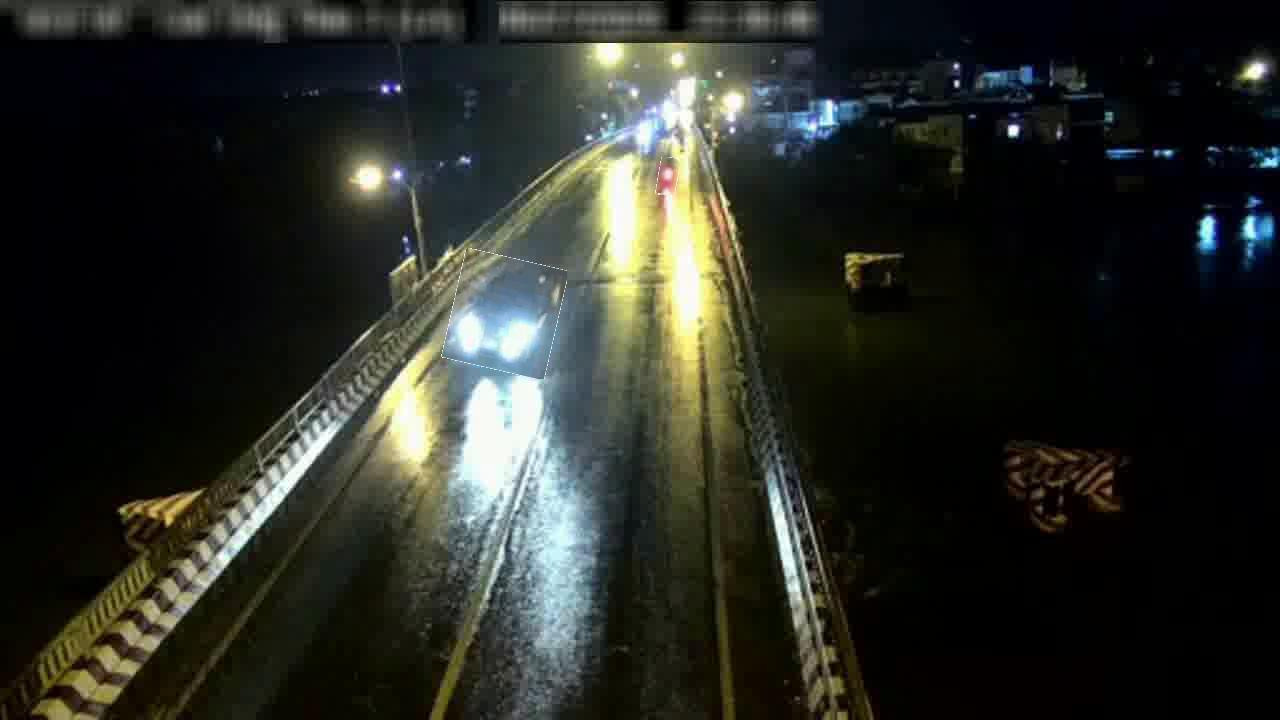container: (447, 253, 563, 375)
motorbike: (657, 158, 679, 196)
